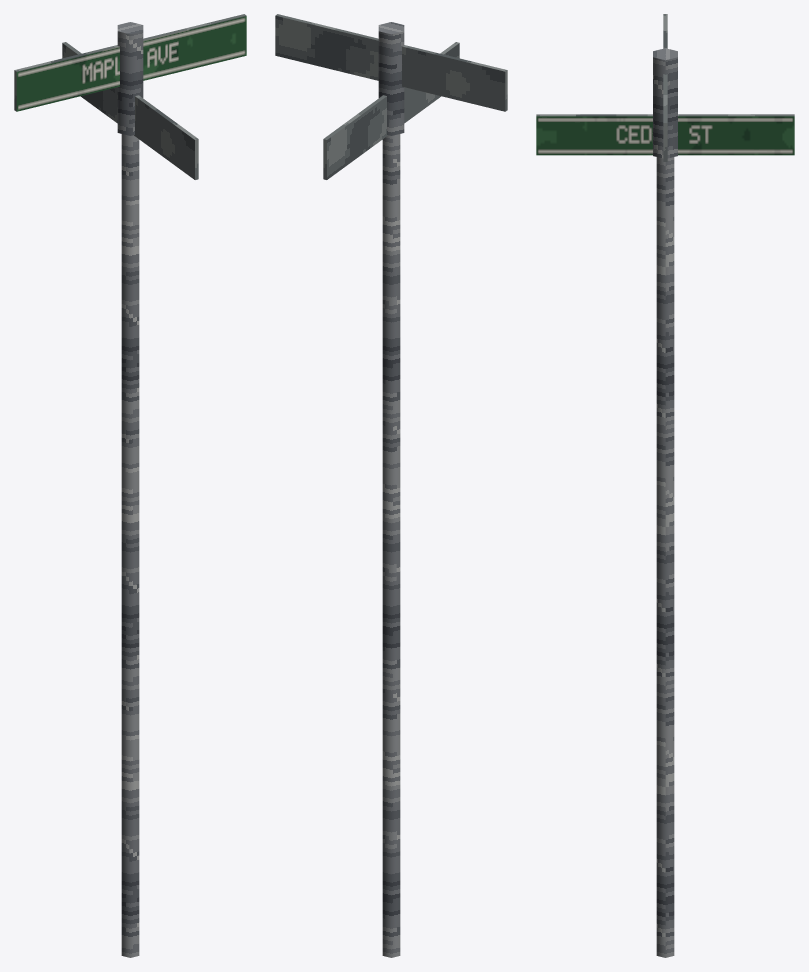
File: SP_Sign_StreetName_Cedar_Maple.obj
The picture shows the model from 3 angles, left to right: view 1: azimuth 30°, elevation 25°; view 2: azimuth 150°, elevation 25°; view 3: azimuth 270°, elevation 25°; orthographic projection. The views are drawn at different scales.
Parts seen in each view (by area): view 1: SP_Sign_StreetName_Cedar_Maple_Mesh_M_Furn_MetalBrushed, SP_Sign_StreetName_Cedar_Maple_Mesh_M_Town_SignAtlas, SP_Sign_StreetName_Cedar_Maple_Mesh_M_Com_SignageBacking; view 2: SP_Sign_StreetName_Cedar_Maple_Mesh_M_Furn_MetalBrushed, SP_Sign_StreetName_Cedar_Maple_Mesh_M_Com_SignageBacking; view 3: SP_Sign_StreetName_Cedar_Maple_Mesh_M_Furn_MetalBrushed, SP_Sign_StreetName_Cedar_Maple_Mesh_M_Town_SignAtlas, SP_Sign_StreetName_Cedar_Maple_Mesh_M_Com_SignageBacking.
Boxes of the visible parts, x1=… form: SP_Sign_StreetName_Cedar_Maple_Mesh_M_Furn_MetalBrushed: x1=117, y1=22, x2=143, y2=957; SP_Sign_StreetName_Cedar_Maple_Mesh_M_Town_SignAtlas: x1=16, y1=15, x2=246, y2=111; SP_Sign_StreetName_Cedar_Maple_Mesh_M_Com_SignageBacking: x1=14, y1=14, x2=245, y2=179; SP_Sign_StreetName_Cedar_Maple_Mesh_M_Furn_MetalBrushed: x1=378, y1=22, x2=404, y2=957; SP_Sign_StreetName_Cedar_Maple_Mesh_M_Com_SignageBacking: x1=275, y1=14, x2=507, y2=179; SP_Sign_StreetName_Cedar_Maple_Mesh_M_Furn_MetalBrushed: x1=653, y1=48, x2=677, y2=957; SP_Sign_StreetName_Cedar_Maple_Mesh_M_Town_SignAtlas: x1=536, y1=116, x2=794, y2=155; SP_Sign_StreetName_Cedar_Maple_Mesh_M_Com_SignageBacking: x1=536, y1=14, x2=794, y2=161.
Bounding box in the file's own units: 0.9 × 3.46 × 0.9.
3 materials, 3 textured.
